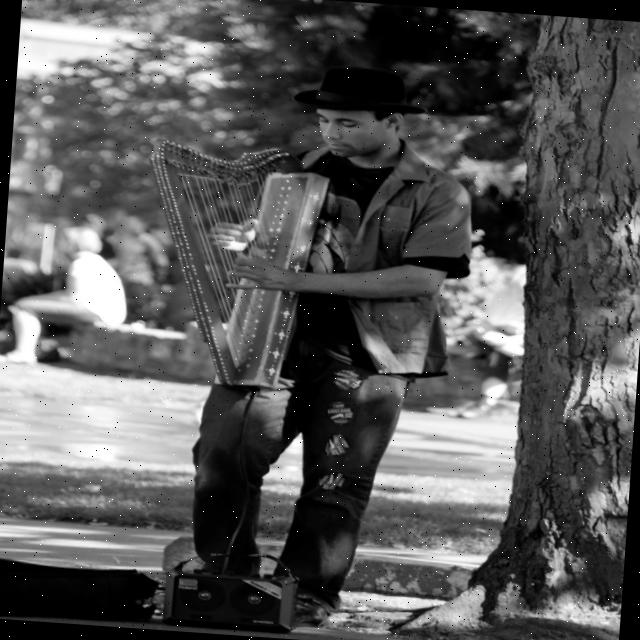harp: (130, 134, 332, 392)
